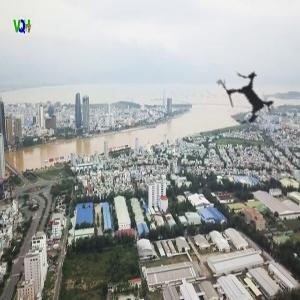drone: (199, 51, 297, 149)
